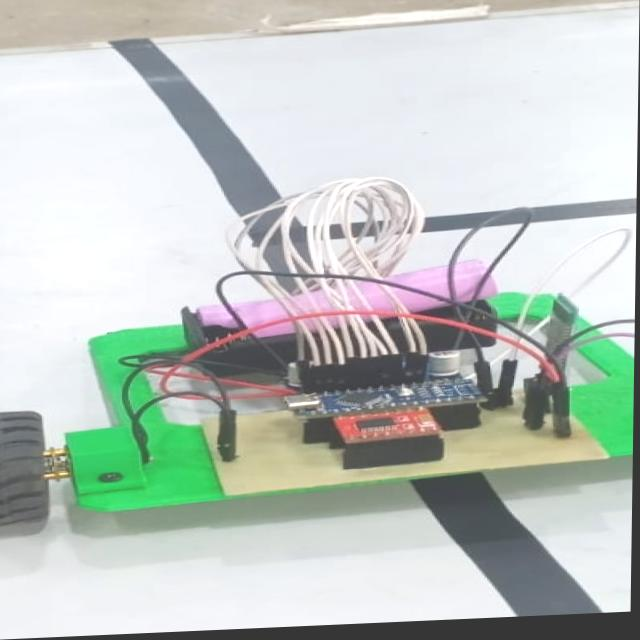vehicle: (0, 175, 637, 570)
